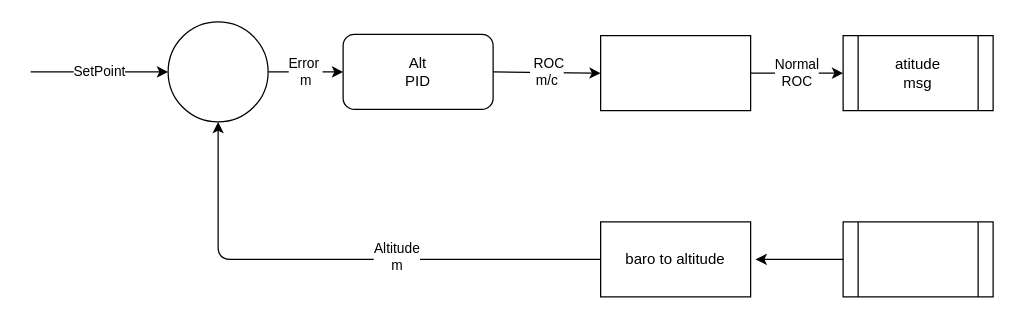
The diagram is 1015 pixels wide and 319 high, and some of its shapes have lost their labels. Each missing label, with the box of its shape:
barometer: (842, 221, 993, 297)
transform m/s rang: 0 - 1: (599, 34, 751, 111)
